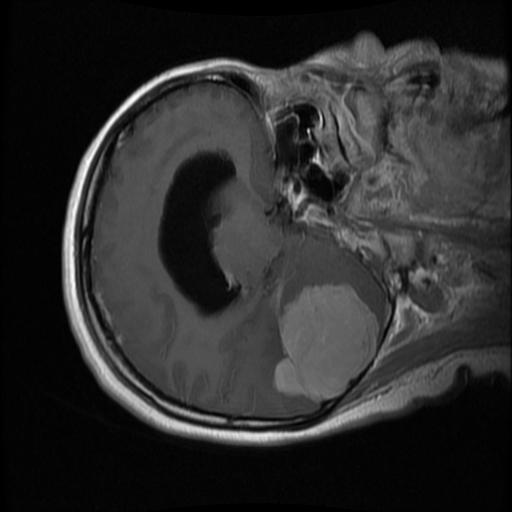meningioma: (274, 283, 379, 400)
